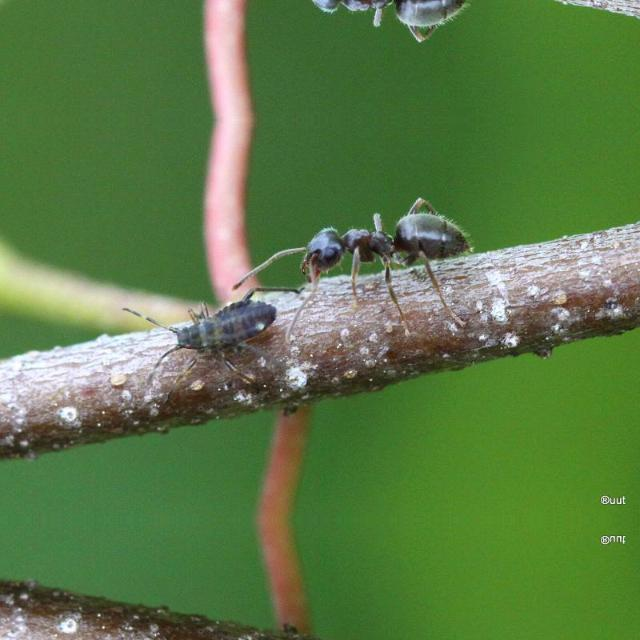Lasius: (250, 190, 504, 304), (248, 0, 503, 48)
